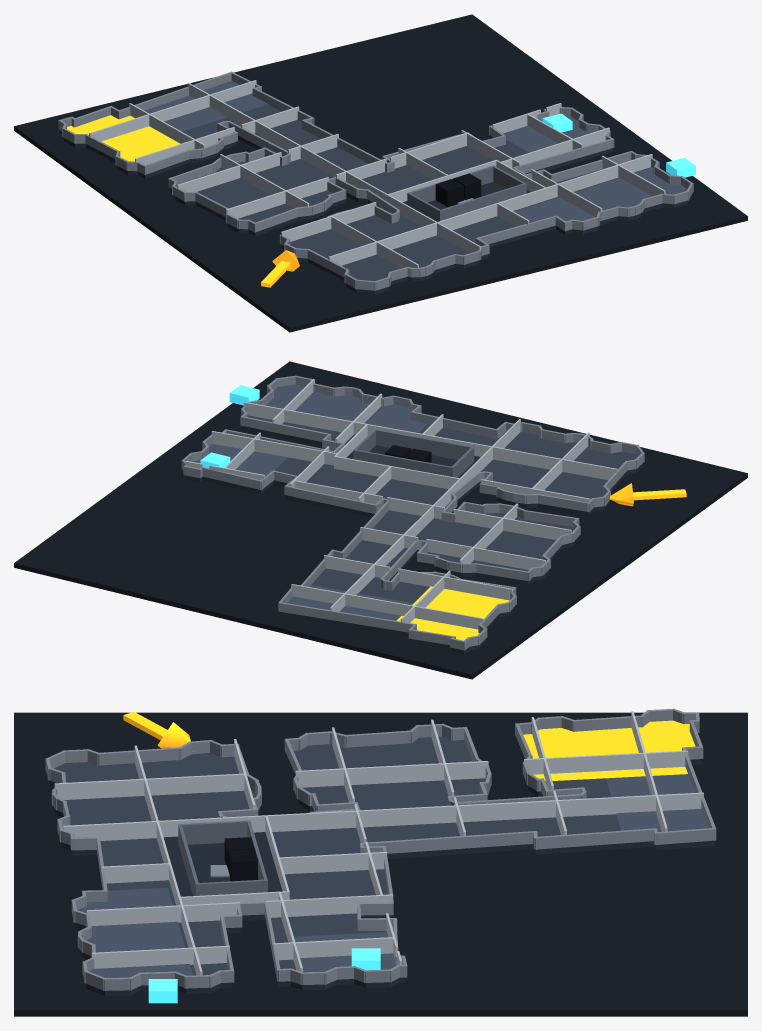
The picture shows the model from 3 angles, top to bottom: view 1: azimuth 30°, elevation 25°; view 2: azimuth 150°, elevation 25°; view 3: azimuth 270°, elevation 25°; orthographic projection. The views are drawn at different scales.
Parts seen in each view (by area): view 1: FireSight 400 Duboce Ave floor 2; view 2: FireSight 400 Duboce Ave floor 2; view 3: FireSight 400 Duboce Ave floor 2.
Boxes of the visible parts, x1,y1,x2,y2 form: FireSight 400 Duboce Ave floor 2: (14, 14, 747, 332); FireSight 400 Duboce Ave floor 2: (14, 361, 747, 679); FireSight 400 Duboce Ave floor 2: (14, 708, 747, 1016).
Size of the model in its own units: 0.6302 by 0.037 by 0.6567.
